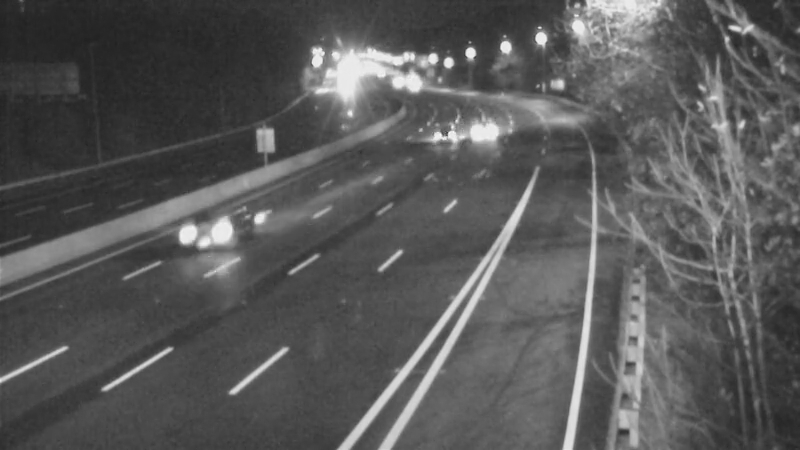vehicle: (171, 183, 251, 263), (456, 104, 506, 154), (421, 110, 471, 160)
